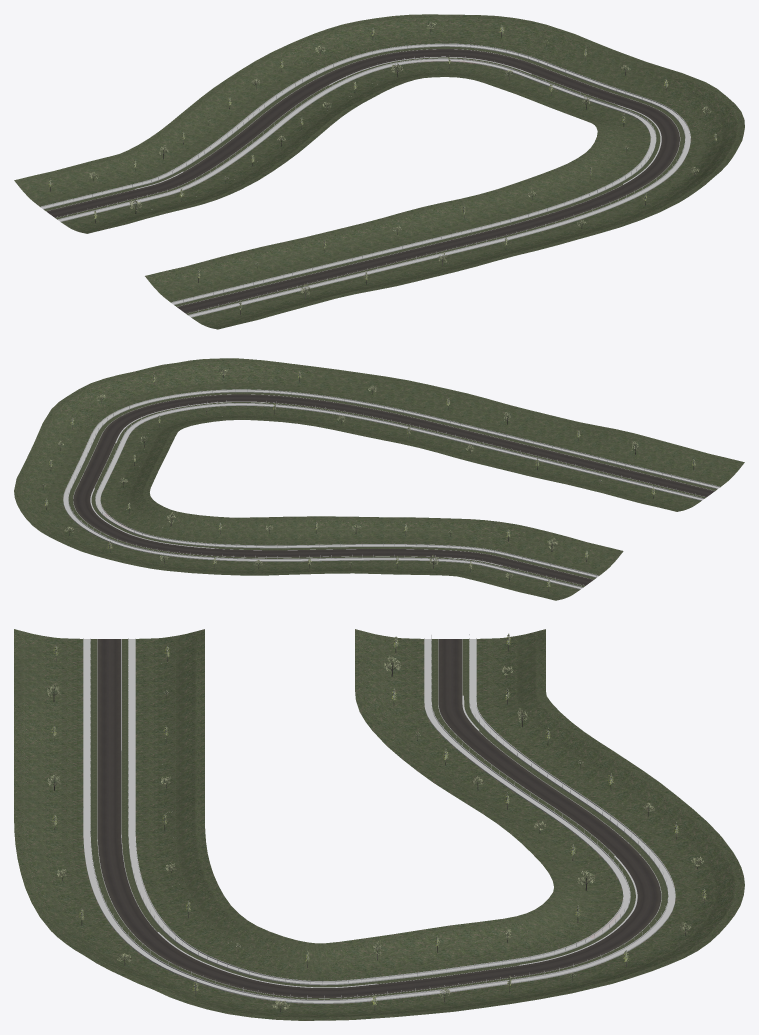
The picture shows the model from 3 angles, top to bottom: view 1: azimuth 30°, elevation 25°; view 2: azimuth 150°, elevation 25°; view 3: azimuth 270°, elevation 25°; orthographic projection. The views are drawn at different scales.
Visible parts, largest first — view 1: Grass, Road, Track, Trees; view 2: Grass, Road, Track, Trees; view 3: Grass, Road, Track, Trees.
Boxes of the visible parts, x1,y1,x2,y2 form: Grass: (14,14,744,329); Road: (46,49,679,313); Track: (40,43,690,317); Trees: (48,22,716,314); Grass: (14,358,744,600); Road: (73,394,714,585); Track: (63,389,720,589); Trees: (42,369,695,591); Grass: (14,629,744,1020); Road: (97,639,661,997); Track: (83,634,675,1003); Trees: (47,633,706,1012).
Size of what is drawn, in the model's own units: 68404 by 2070 by 53606.
